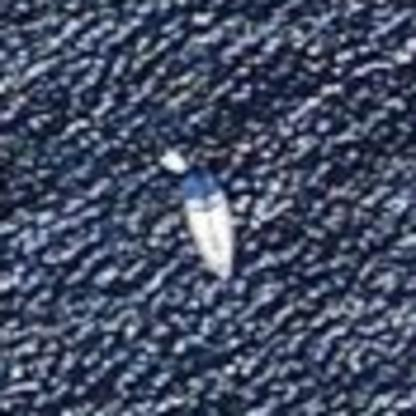ship: (152, 143, 249, 287)
